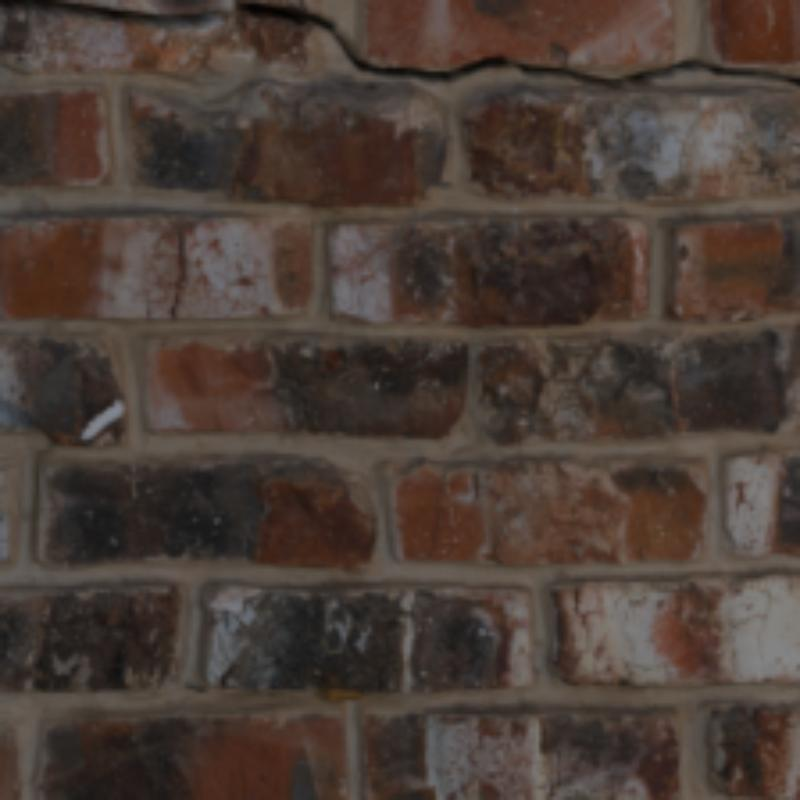pothole: (0, 0, 796, 93), (171, 225, 189, 321)
